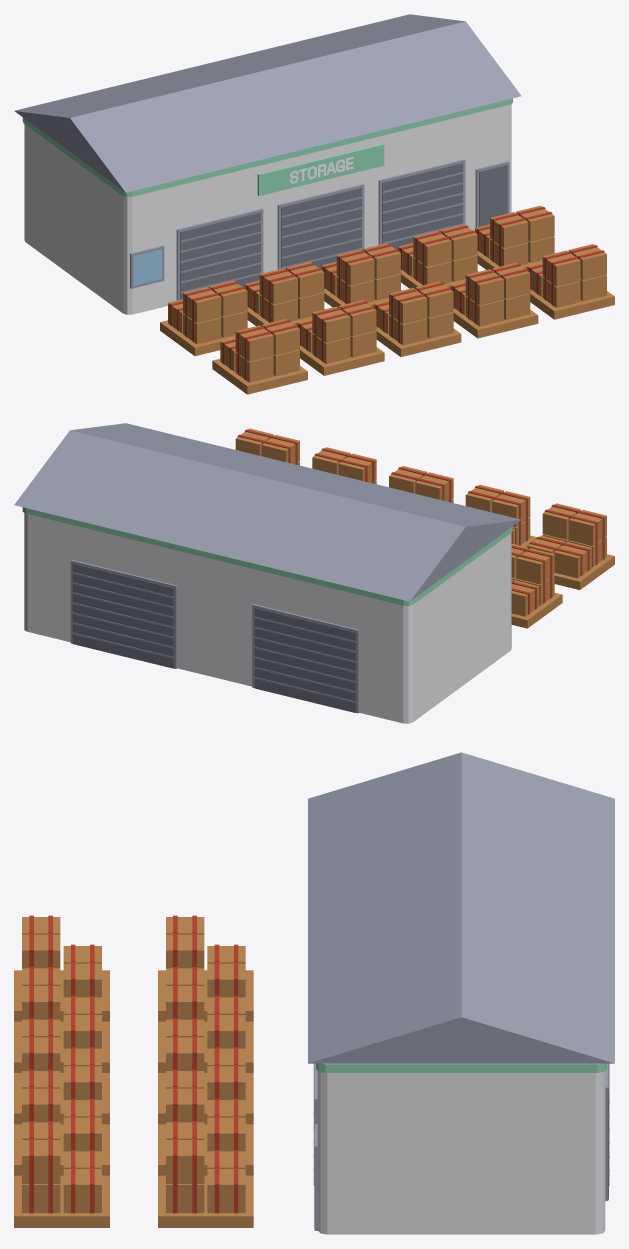
File: storehouse-2x2-t10-tone-a.glb
3 views of the same model, one above another, from view 1: azimuth 30°, elevation 25°; view 2: azimuth 150°, elevation 25°; view 3: azimuth 270°, elevation 25° (orthographic). The views are drawn at different scales.
Visible parts, largest first — view 1: storehouse-2x2-t10-tone-a; view 2: storehouse-2x2-t10-tone-a; view 3: storehouse-2x2-t10-tone-a.
Part boxes in pixels (x1,y1,x2,y2): storehouse-2x2-t10-tone-a: [14, 14, 614, 394]; storehouse-2x2-t10-tone-a: [14, 423, 614, 723]; storehouse-2x2-t10-tone-a: [14, 752, 614, 1234].
Bounding box in the file's own units: 1.96 × 0.76 × 1.88.
1 material, 1 textured.
